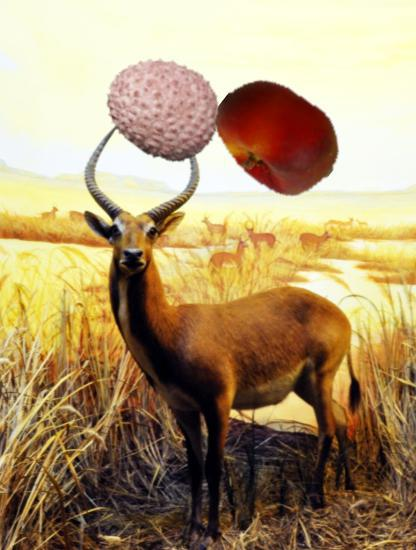Lychee: (105, 47, 225, 167)
Nectarine: (212, 71, 343, 202)
